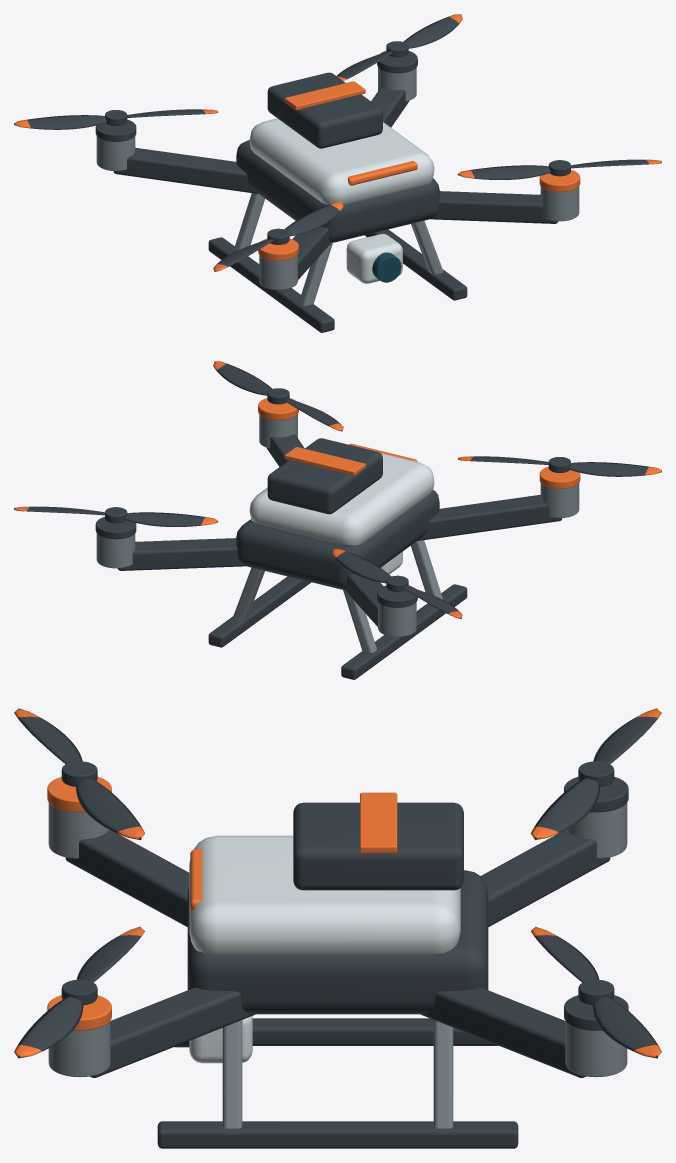
Rendered from drone.glb.
3 renders of one model, top to bottom at view 1: azimuth 30°, elevation 25°; view 2: azimuth 150°, elevation 25°; view 3: azimuth 270°, elevation 25°, orthographic. The views are drawn at different scales.
Visible parts, largest first — view 1: Body, Landing_Gear, Battery, Arm_RL, Arm_FR, Payload, Propeller_FR, Propeller_RL, Motor_FR, Propeller_FL, Motor_FL, Propeller_RR (+4 smaller); view 2: Body, Landing_Gear, Battery, Arm_FL, Arm_RR, Propeller_RR, Propeller_FL, Motor_RR, Propeller_RL, Propeller_FR, Motor_RL, Motor_FL (+3 smaller); view 3: Body, Landing_Gear, Battery, Arm_FR, Arm_RR, Arm_RL, Arm_FL, Propeller_RL, Propeller_FL, Propeller_FR, Propeller_RR, Motor_FR (+4 smaller).
Part boxes in pixels (<box>): Body: <box>236,118,439,242</box>; Landing_Gear: <box>208,193,467,332</box>; Battery: <box>267,72,382,148</box>; Arm_RL: <box>113,147,258,193</box>; Arm_FR: <box>429,191,558,223</box>; Payload: <box>346,233,402,283</box>; Propeller_FR: <box>457,159,661,179</box>; Propeller_RL: <box>14,109,218,129</box>; Motor_FR: <box>539,170,580,221</box>; Propeller_FL: <box>213,201,343,271</box>; Motor_FL: <box>258,238,298,289</box>; Propeller_RR: <box>336,14,462,80</box>; Body: <box>236,443,439,589</box>; Landing_Gear: <box>208,540,467,679</box>; Battery: <box>267,438,382,514</box>; Arm_FL: <box>417,494,562,540</box>; Arm_RR: <box>117,538,246,570</box>; Propeller_RR: <box>14,506,218,526</box>; Propeller_FL: <box>457,456,661,476</box>; Motor_RR: <box>95,517,136,568</box>; Propeller_RL: <box>332,548,462,618</box>; Propeller_FR: <box>213,361,343,431</box>; Motor_RL: <box>377,585,417,636</box>; Motor_FL: <box>539,466,580,517</box>; Body: <box>187,835,488,1014</box>; Landing_Gear: <box>157,1018,518,1148</box>; Battery: <box>293,792,463,890</box>; Arm_FR: <box>89,987,255,1077</box>; Arm_RR: <box>420,987,586,1077</box>; Arm_RL: <box>480,829,610,926</box>; Arm_FL: <box>65,829,189,926</box>; Propeller_RL: <box>530,708,661,839</box>; Propeller_FL: <box>14,708,144,840</box>; Propeller_FR: <box>14,926,144,1058</box>; Propeller_RR: <box>531,926,661,1058</box>; Motor_FR: <box>47,995,111,1077</box>.
Size of what is drawn, in the model's own units: 0.5059 by 0.186 by 0.3991.
